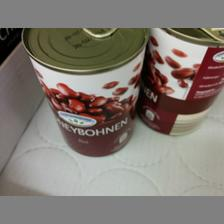Bohnen: (20, 26, 144, 158), (145, 25, 223, 139)
